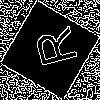R: (25, 25, 79, 72)
